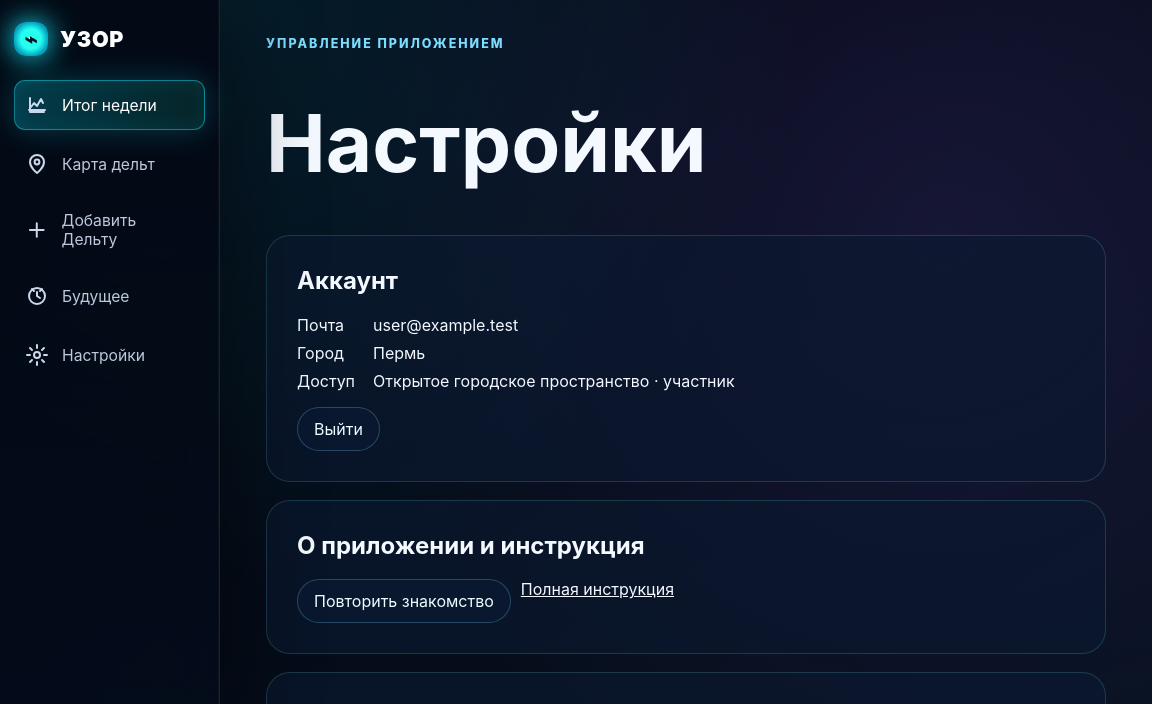
Test case: Settings account and application states › shows a recoverable sign-out failure
Click the button "Выйти" at (339, 429), box left=297, top=407, right=380, bottom=451
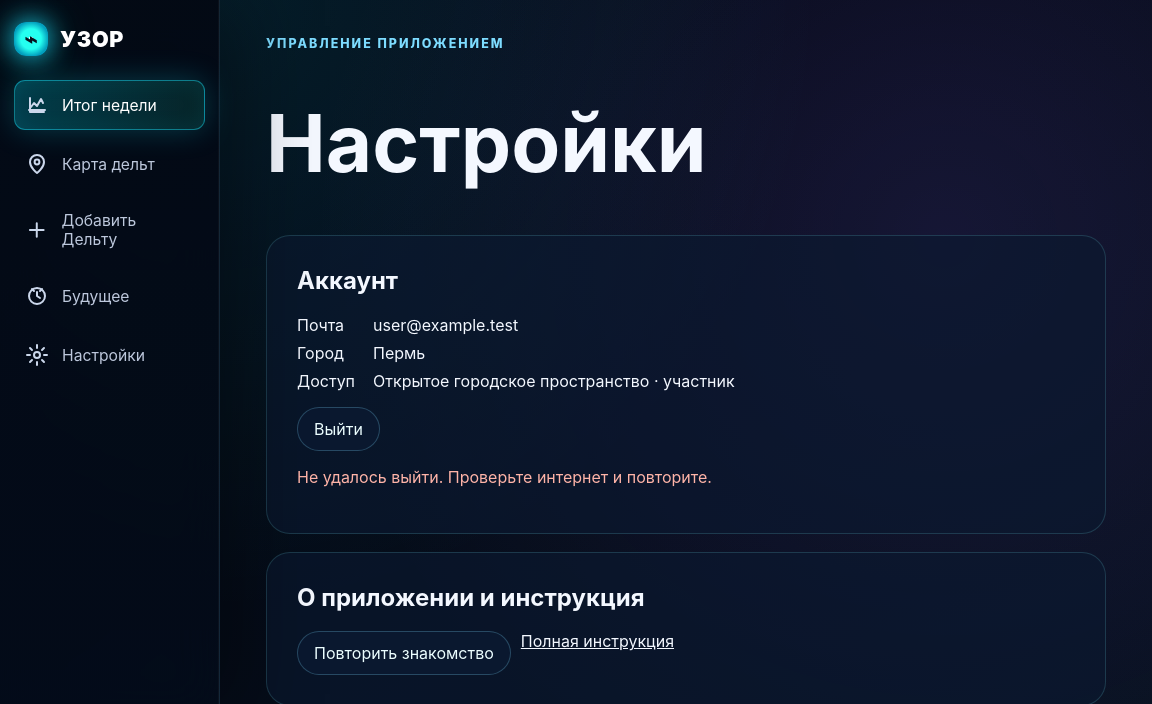
Now the message shows "Не удалось выйти", box left=297, top=467, right=712, bottom=487
